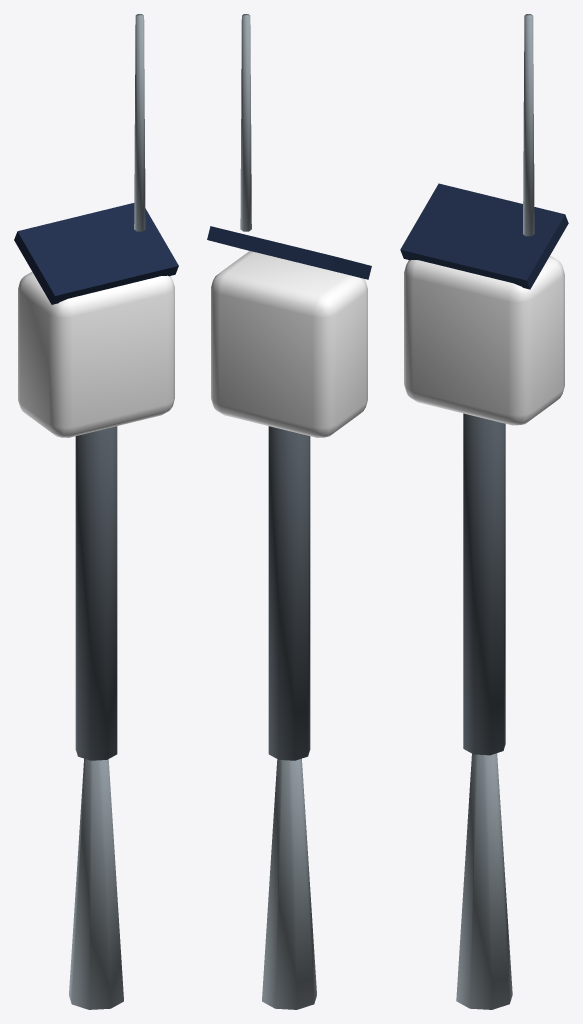
The model's file is soil_sensor.glb.
3 renders of one model, left to right at view 1: azimuth 30°, elevation 25°; view 2: azimuth 150°, elevation 25°; view 3: azimuth 330°, elevation 25°, orthographic. The views are drawn at different scales.
Visible parts, largest first — view 1: Body, Head; view 2: Body, Head; view 3: Body, Head.
Part boxes in pixels (bbox=[...]): Body: bbox=[14, 14, 178, 1009]; Head: bbox=[18, 272, 174, 437]; Body: bbox=[207, 14, 371, 1009]; Head: bbox=[211, 251, 367, 437]; Body: bbox=[400, 14, 568, 1009]; Head: bbox=[404, 256, 564, 425].
Size of the model in its own units: 0.2 by 1.5 by 0.13.
